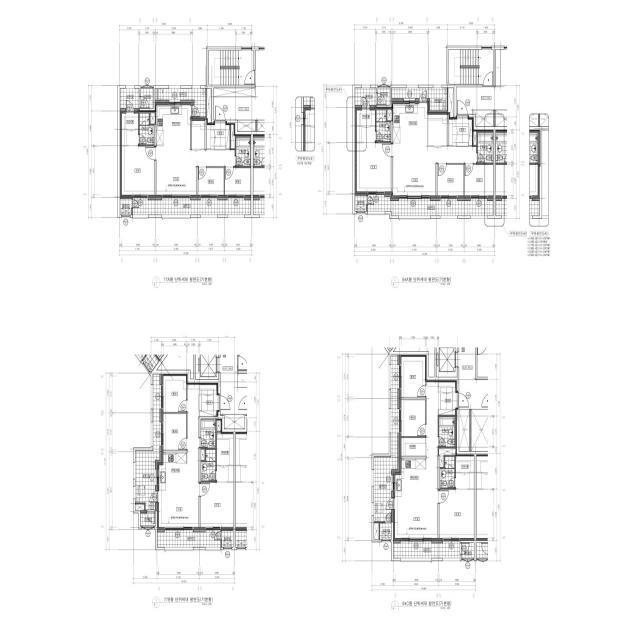space_balconi: (374, 355, 399, 522), (135, 374, 161, 510), (368, 195, 493, 215), (133, 198, 251, 215), (155, 89, 206, 117), (392, 88, 447, 111), (393, 541, 460, 558), (157, 530, 221, 547), (159, 453, 187, 490), (120, 88, 139, 111), (355, 88, 376, 108)
space_bedroom: (355, 143, 391, 194), (459, 347, 488, 409), (440, 490, 474, 541), (120, 146, 154, 197), (201, 482, 233, 529), (400, 355, 426, 397), (161, 374, 186, 412), (399, 400, 425, 436), (465, 165, 493, 198), (162, 414, 186, 450), (438, 165, 464, 198), (198, 168, 224, 197), (225, 168, 251, 197)
space_dressroom: (355, 108, 375, 143), (456, 454, 474, 490), (120, 111, 138, 145), (217, 432, 233, 465), (217, 466, 233, 481)
space_elevator: (196, 354, 218, 379)
space_elevator_hall: (456, 87, 496, 114), (220, 355, 237, 414), (214, 97, 256, 120)
space_front: (449, 115, 472, 147), (207, 121, 230, 150), (438, 391, 458, 415), (199, 393, 219, 416)
space_kitchen: (156, 103, 190, 150), (393, 101, 427, 144), (393, 459, 426, 498)
space_living_room: (393, 380, 438, 541), (157, 383, 199, 529), (393, 144, 476, 198), (156, 150, 235, 197)
space_other: (471, 409, 488, 451), (428, 112, 447, 145), (190, 118, 205, 150), (400, 438, 425, 456), (459, 410, 469, 451), (220, 415, 247, 429), (214, 88, 255, 97), (473, 110, 494, 126), (439, 448, 456, 467), (141, 88, 153, 108), (378, 88, 390, 105), (439, 380, 457, 391), (237, 120, 255, 131), (141, 513, 155, 526), (462, 543, 474, 558), (200, 383, 218, 393), (448, 88, 454, 117), (207, 88, 211, 123), (231, 125, 235, 148), (374, 523, 379, 539), (217, 419, 222, 431), (473, 131, 477, 145), (150, 113, 155, 124), (135, 504, 144, 510), (387, 110, 392, 120), (201, 449, 205, 460)
space_outdoor_room: (380, 523, 391, 539), (222, 531, 233, 547), (120, 199, 131, 215), (355, 195, 366, 211)
space_staircase: (209, 50, 253, 85), (449, 49, 493, 84)
space_toilet: (439, 416, 455, 447), (440, 456, 455, 488), (201, 449, 216, 481), (139, 113, 154, 145), (376, 110, 391, 141), (478, 133, 493, 163), (201, 419, 216, 448), (236, 137, 251, 166)
